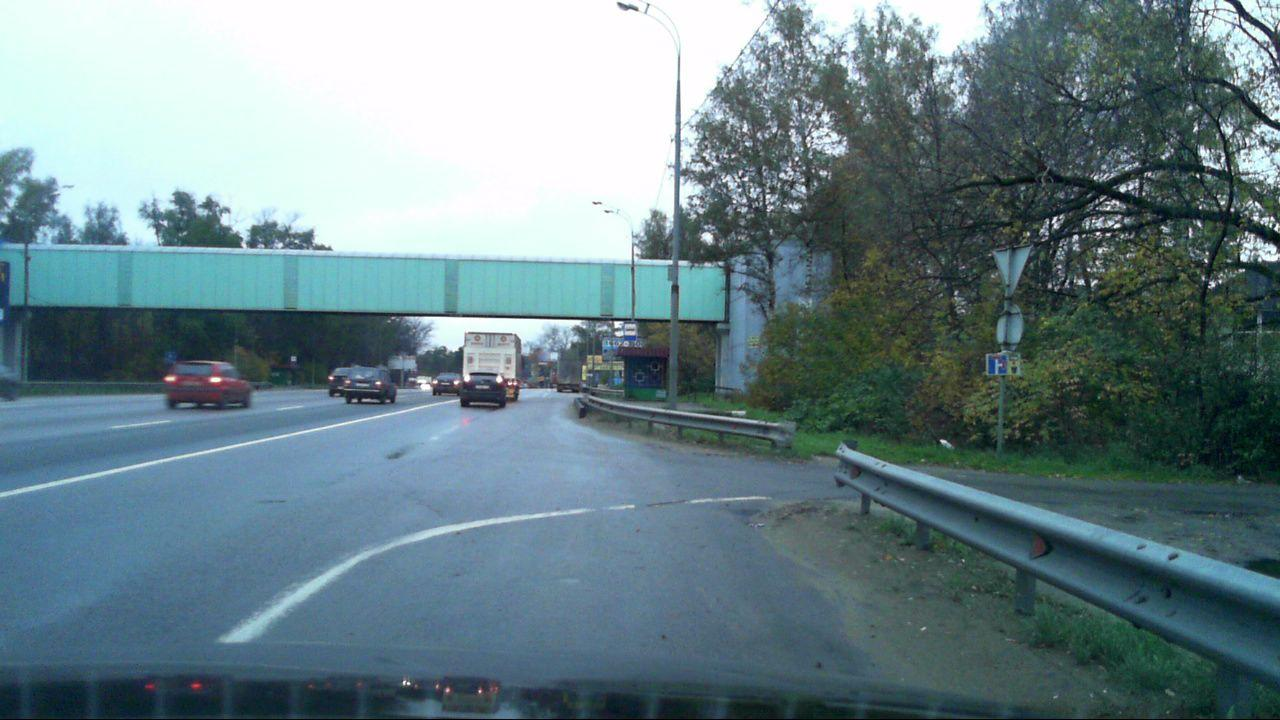5_16: (622, 322, 639, 342)
6_8_2: (988, 354, 1011, 376)
